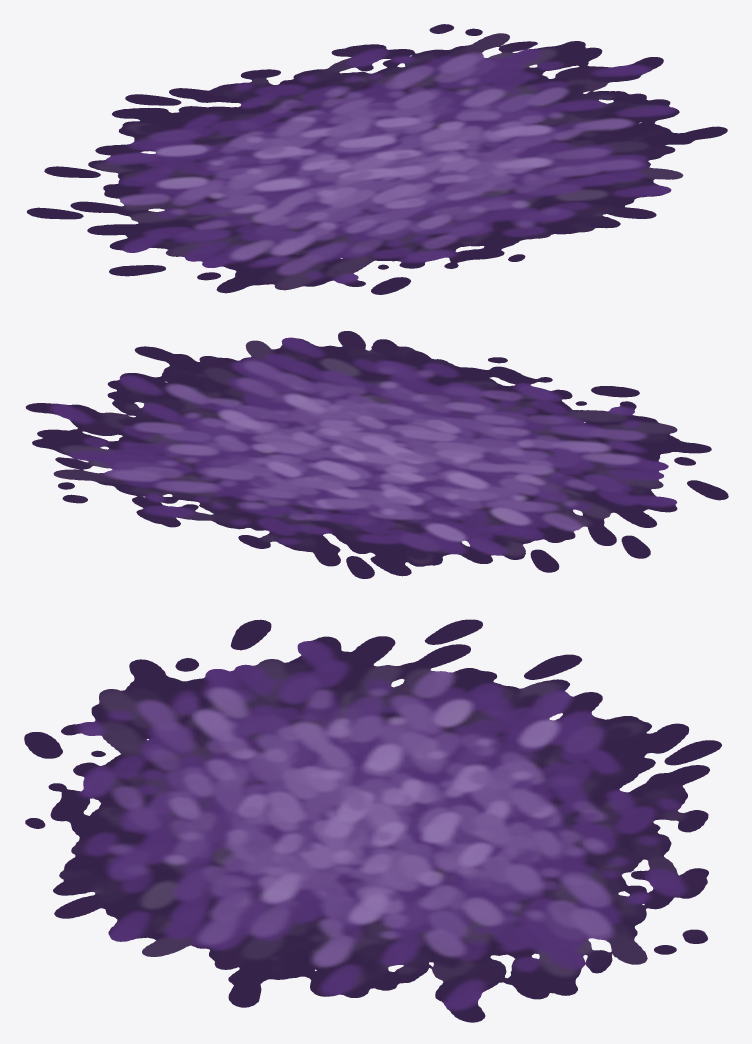
The model's file is HP3_bush040.fbx.
The picture shows the model from 3 angles, top to bottom: view 1: azimuth 30°, elevation 25°; view 2: azimuth 150°, elevation 25°; view 3: azimuth 270°, elevation 25°; orthographic projection. The views are drawn at different scales.
Visible parts, largest first — view 1: HP3_bush040; view 2: HP3_bush040; view 3: HP3_bush040.
Part boxes in pixels (<box>): HP3_bush040: <box>27,24,727,294</box>; HP3_bush040: <box>25,331,728,578</box>; HP3_bush040: <box>24,619,721,1022</box>.
Size of the model in its own units: 9.84 by 3.16e-07 by 7.24.
